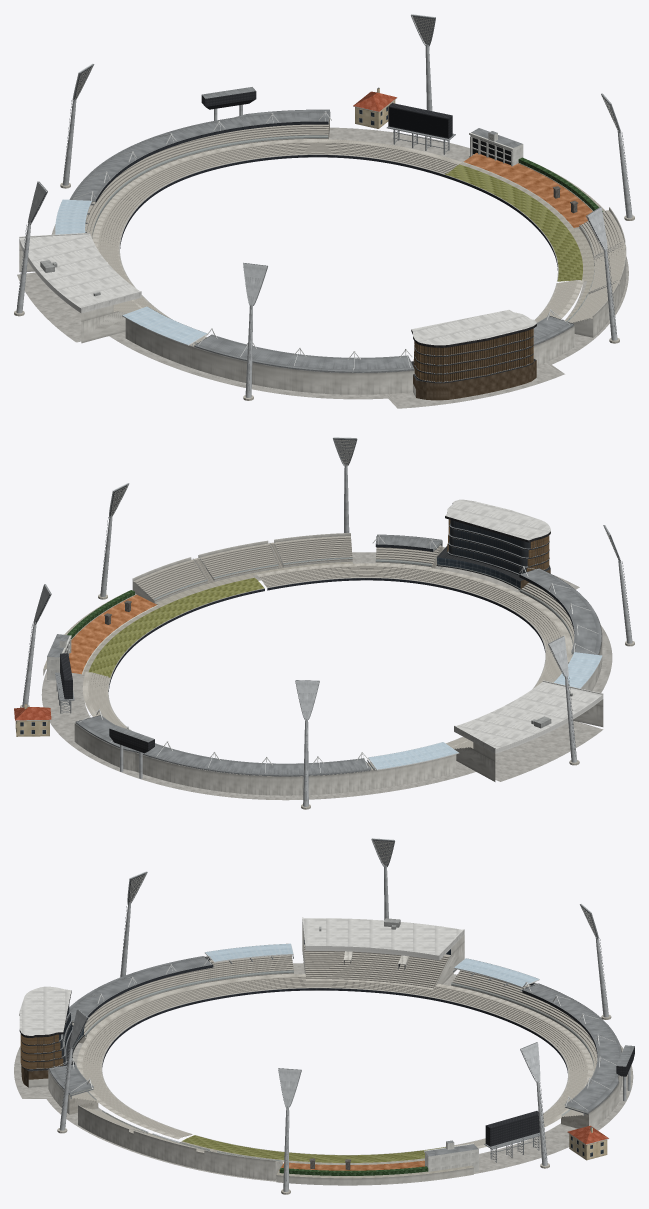
File: manuka.glb
3 renders of one model, top to bottom at view 1: azimuth 30°, elevation 25°; view 2: azimuth 150°, elevation 25°; view 3: azimuth 270°, elevation 25°, orthographic. The views are drawn at different scales.
Visible parts, largest first — view 1: stand_west, lower_terrace, media_centre, stand_north, east_bank, apron, light_towers, bradman_roof, red_terraces, canopies, video_screen, bradman (+4 smaller); view 2: stand_north, apron, lower_terrace, east_bank, red_terraces, media_centre, light_towers, bradman_roof, stand_west, canopies, stand_southeast, bradman (+4 smaller); view 3: lower_terrace, stand_north, east_bank, bradman, stand_west, bradman_roof, light_towers, red_terraces, media_centre, apron, canopies, video_screen (+4 smaller).
Boxes of the visible parts, <box> form: stand_west: <box>125,318,414,394</box>; lower_terrace: <box>93,139,583,372</box>; media_centre: <box>411,310,536,400</box>; stand_north: <box>69,109,331,239</box>; east_bank: <box>444,152,604,281</box>; apron: <box>17,127,628,408</box>; light_towers: <box>14,14,634,400</box>; bradman_roof: <box>19,232,141,313</box>; red_terraces: <box>565,207,626,337</box>; canopies: <box>55,199,207,346</box>; video_screen: <box>386,103,455,154</box>; bradman: <box>19,243,168,343</box>; stand_north: <box>74,709,456,795</box>; apron: <box>41,547,612,800</box>; lower_terrace: <box>82,563,571,768</box>; east_bank: <box>43,575,264,678</box>; red_terraces: <box>132,533,352,604</box>; media_centre: <box>436,499,550,592</box>; light_towers: <box>20,437,634,809</box>; bradman_roof: <box>454,680,603,753</box>; stand_west: <box>517,566,602,690</box>; canopies: <box>368,652,602,770</box>; stand_southeast: <box>372,534,442,568</box>; bradman: <box>446,699,603,781</box>; lower_terrace: <box>77,974,593,1148</box>; stand_north: <box>451,969,622,1128</box>; east_bank: <box>179,1135,473,1185</box>; bradman: <box>302,924,464,999</box>; stand_west: <box>69,955,293,1043</box>; bradman_roof: <box>302,917,464,960</box>; light_towers: <box>57,838,611,1194</box>; red_terraces: <box>78,1105,282,1180</box>; media_centre: <box>19,986,86,1087</box>; apron: <box>14,962,633,1181</box>; canopies: <box>204,943,539,987</box>; video_screen: <box>484,1111,540,1162</box>.
Bounding box in the file's own units: 220 × 46.28 × 229.
47 materials, 47 textured.
